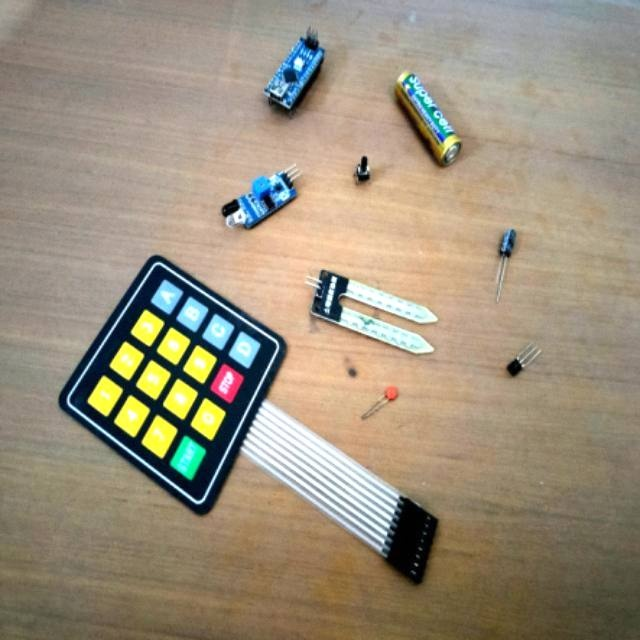capacitor: (500, 230, 515, 258), (385, 386, 398, 401)
